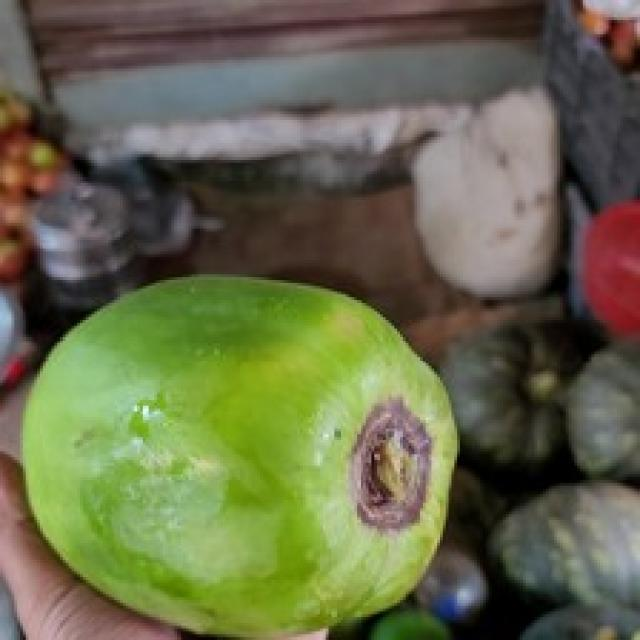Pepaya unrippen: (24, 268, 459, 639)
